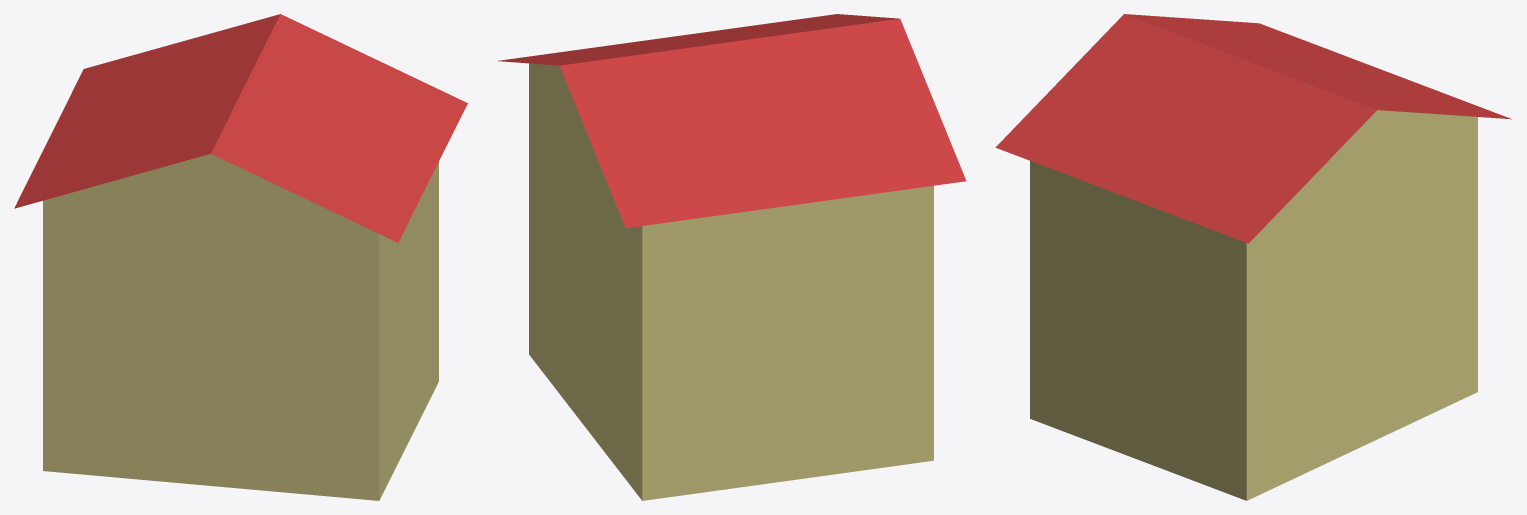
3 views of the same model, side by side, from view 1: azimuth 30°, elevation 25°; view 2: azimuth 150°, elevation 25°; view 3: azimuth 270°, elevation 25° (orthographic). The views are drawn at different scales.
Visible parts, largest first — view 1: group_5, group_3, group_4; view 2: group_5, group_3, group_4; view 3: group_5, group_3.
Boxes of the visible parts, x1=… form: group_5: x1=43, y1=154, x2=438, y2=500; group_3: x1=14, y1=14, x2=467, y2=242; group_4: x1=165, y1=14, x2=462, y2=242; group_5: x1=529, y1=63, x2=933, y2=500; group_3: x1=498, y1=14, x2=966, y2=228; group_4: x1=560, y1=18, x2=899, y2=107; group_5: x1=1030, y1=110, x2=1477, y2=500; group_3: x1=996, y1=14, x2=1511, y2=243.
Bounding box in the file's own units: 15.9 × 15.78 × 11.61.
